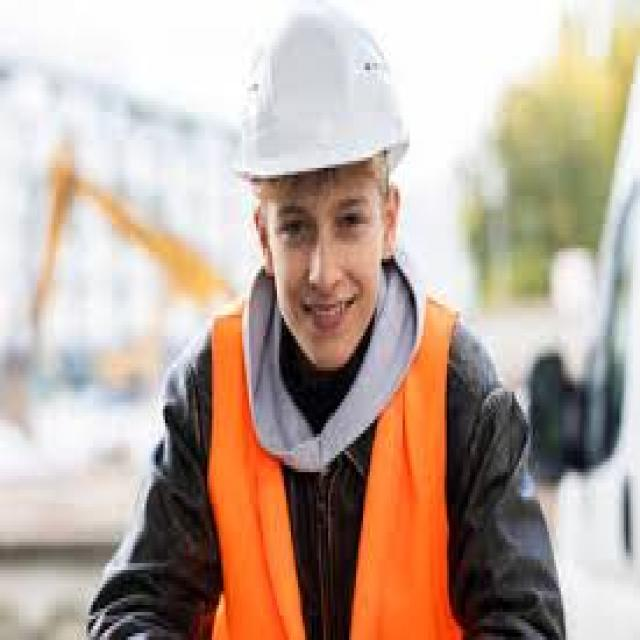Reflective-Jacket: (184, 294, 475, 636)
Safety-Helmet: (230, 7, 414, 189)
